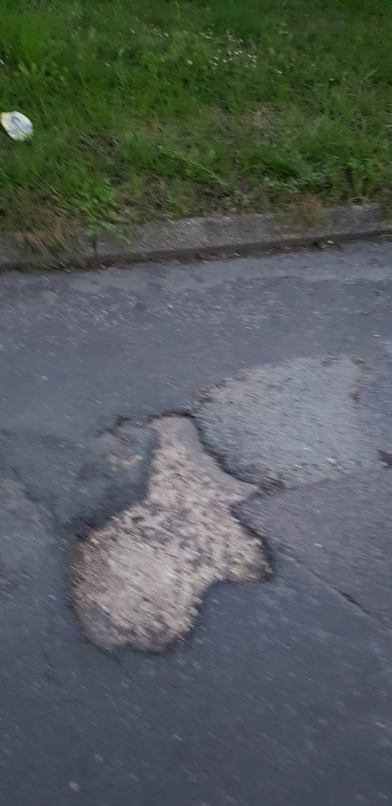pothole: (57, 405, 285, 659)
